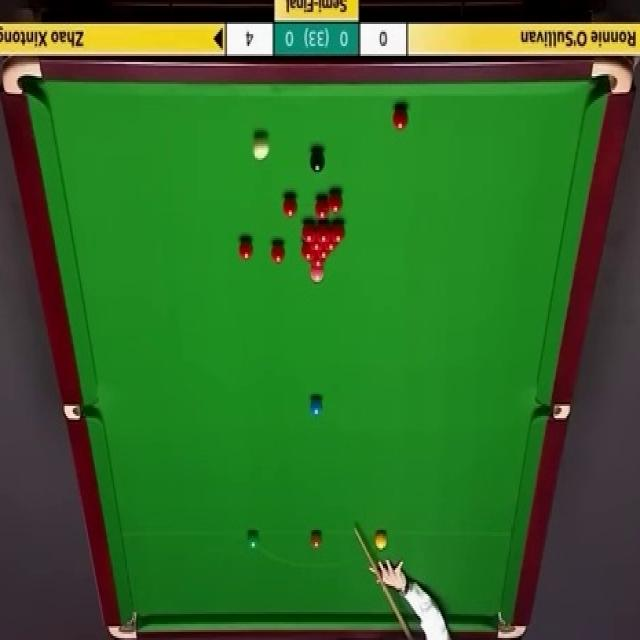black-ball: (310, 151, 326, 172)
blue-ball: (299, 381, 311, 404)
brown-ball: (309, 531, 323, 549)
green-ball: (246, 531, 261, 549)
pink-ball: (93, 259, 110, 287)
red-ball: (257, 232, 274, 260), (334, 314, 352, 335), (84, 227, 99, 252), (292, 206, 307, 230), (113, 242, 129, 264), (221, 288, 235, 312), (389, 263, 403, 287), (310, 192, 324, 215), (305, 213, 321, 233), (321, 222, 334, 246), (317, 241, 331, 262)
white-ball: (378, 415, 391, 442)
yellow-ball: (425, 554, 438, 576)
